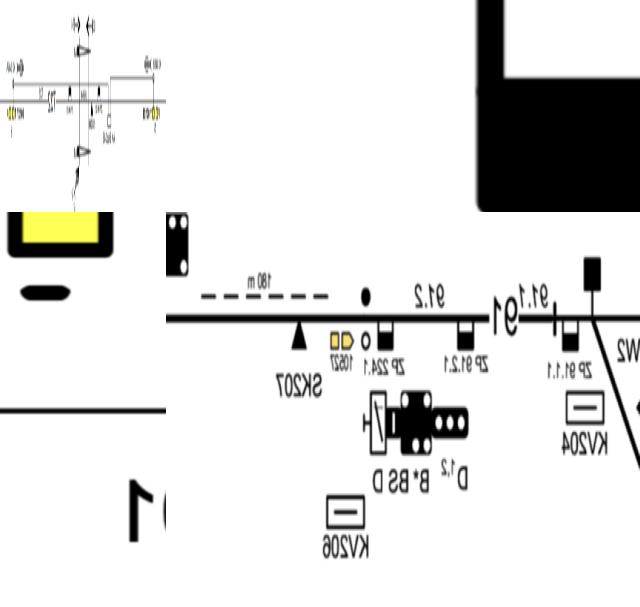radzaehler: (463, 0, 640, 212), (449, 316, 480, 359), (558, 310, 584, 358), (374, 312, 396, 357), (97, 84, 101, 104), (68, 84, 72, 104)
tracknumber: (488, 293, 521, 340), (46, 88, 56, 116)
weiche: (580, 247, 608, 333)
